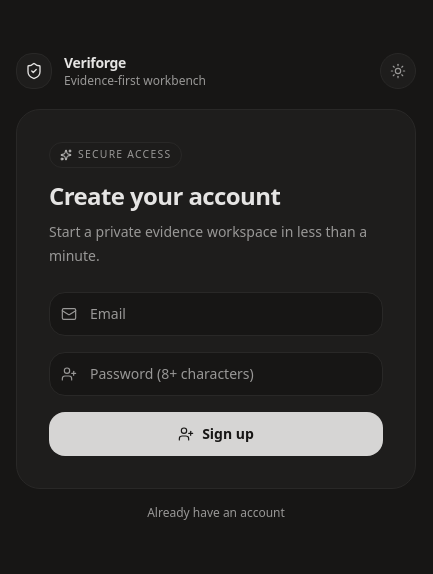
Test: SignupPage › a rejected request shows an error and keeps what was typed
Type "new@example.com" into the field labelled "Email" at point(216, 314), box [49,292,383,336]
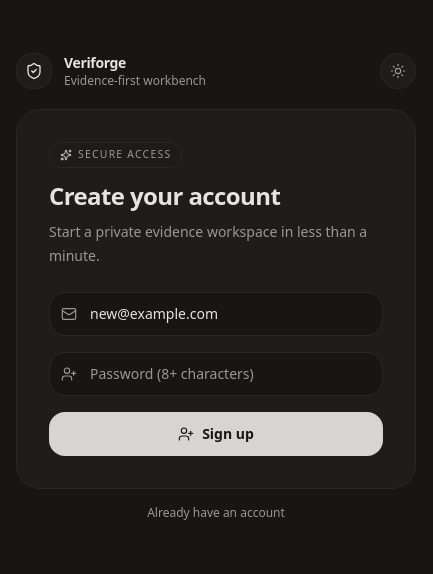
Type "longenough1" into the password field labelled "Password" at point(216, 374), box [49,352,383,396]
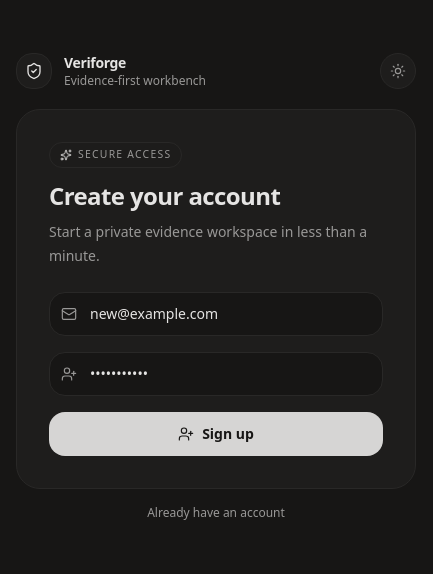
Click the button "Sign up" at point(216, 434), box [49,412,383,456]
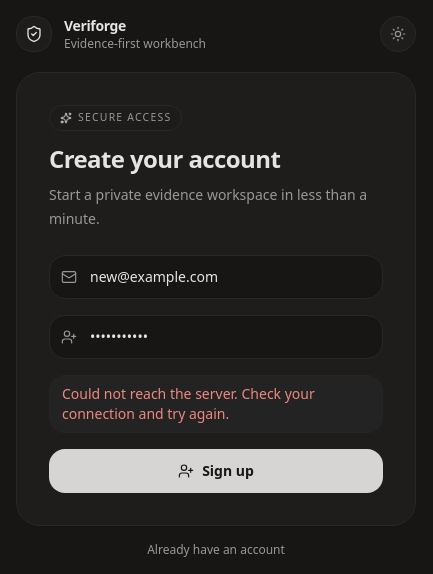
Expected: the text "Could not reach the server" is shown, [62,384,315,423]
